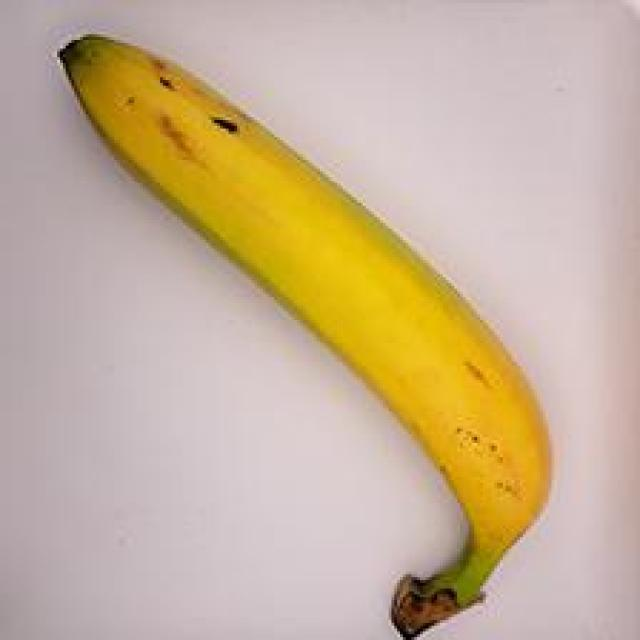ripe: (39, 22, 574, 630)
